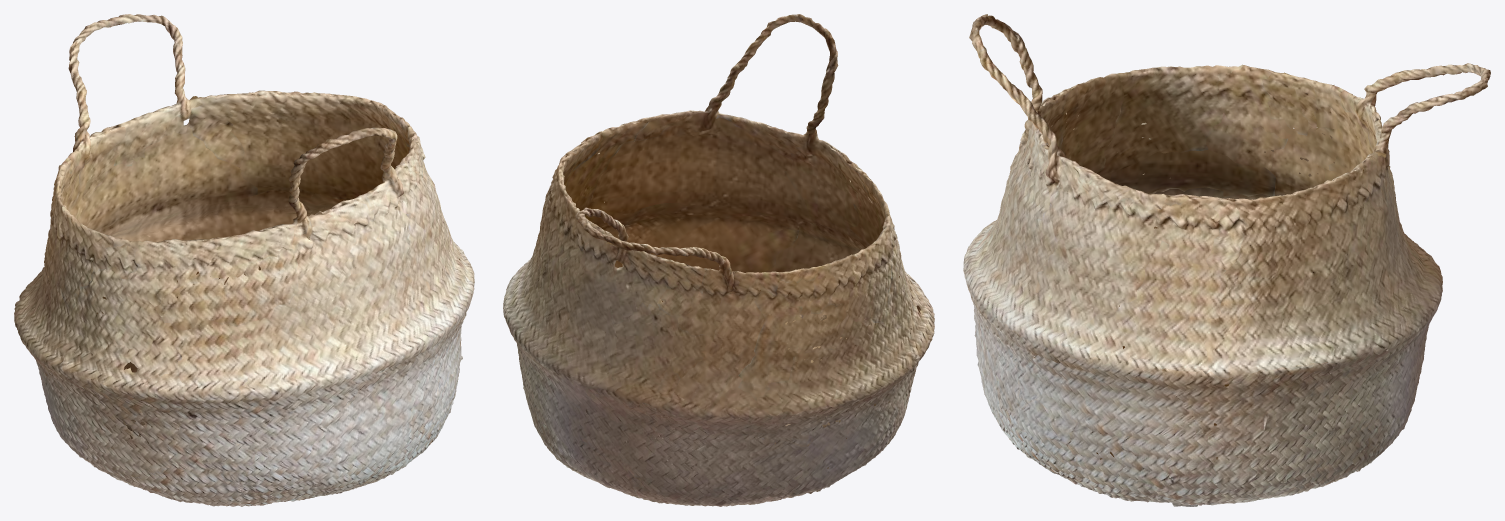
3 renders of one model, left to right at view 1: azimuth 30°, elevation 25°; view 2: azimuth 150°, elevation 25°; view 3: azimuth 270°, elevation 25°, orthographic. The views are drawn at different scales.
Parts seen in each view (by area): view 1: meshmixer filled holes all; view 2: meshmixer filled holes all; view 3: meshmixer filled holes all.
Part boxes in pixels (x1=…): meshmixer filled holes all: x1=14, y1=14, x2=474, y2=506; meshmixer filled holes all: x1=503, y1=14, x2=934, y2=506; meshmixer filled holes all: x1=963, y1=14, x2=1490, y2=506.
Size of the model in its own units: 0.00388 by 0.00353 by 0.00405.
2 materials, 2 textured.
